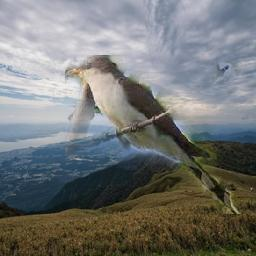Cuckoo: (65, 56, 241, 215)
